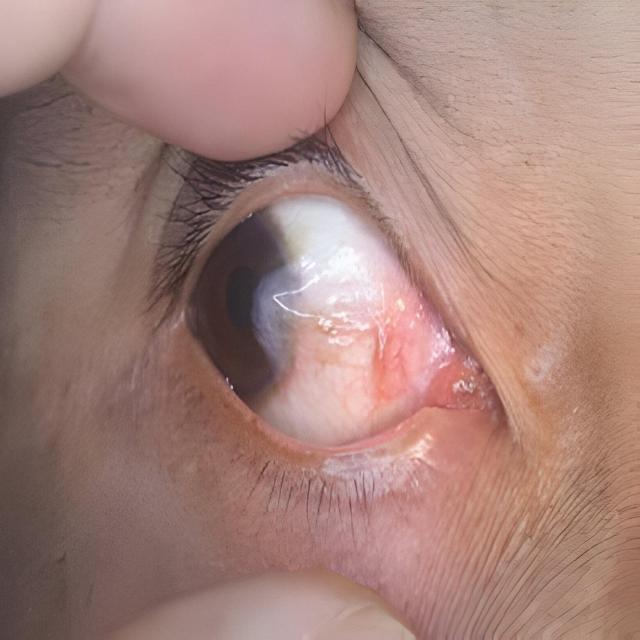Pterygium: (252, 240, 450, 413)
